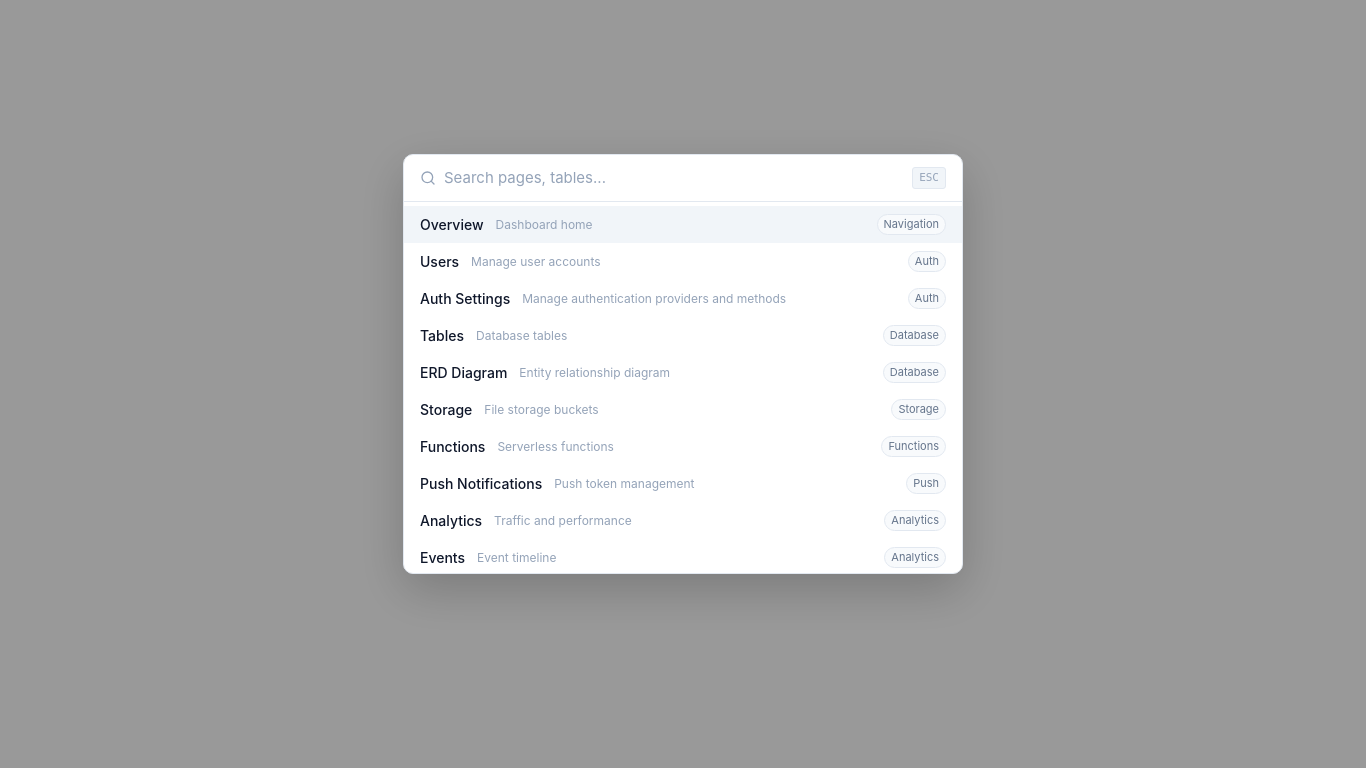
it: CommandPalette › filters navigation and schema items together
In the field with placeholder "Search pages, tables...": (674, 178) [444,167,904,189], type "post"
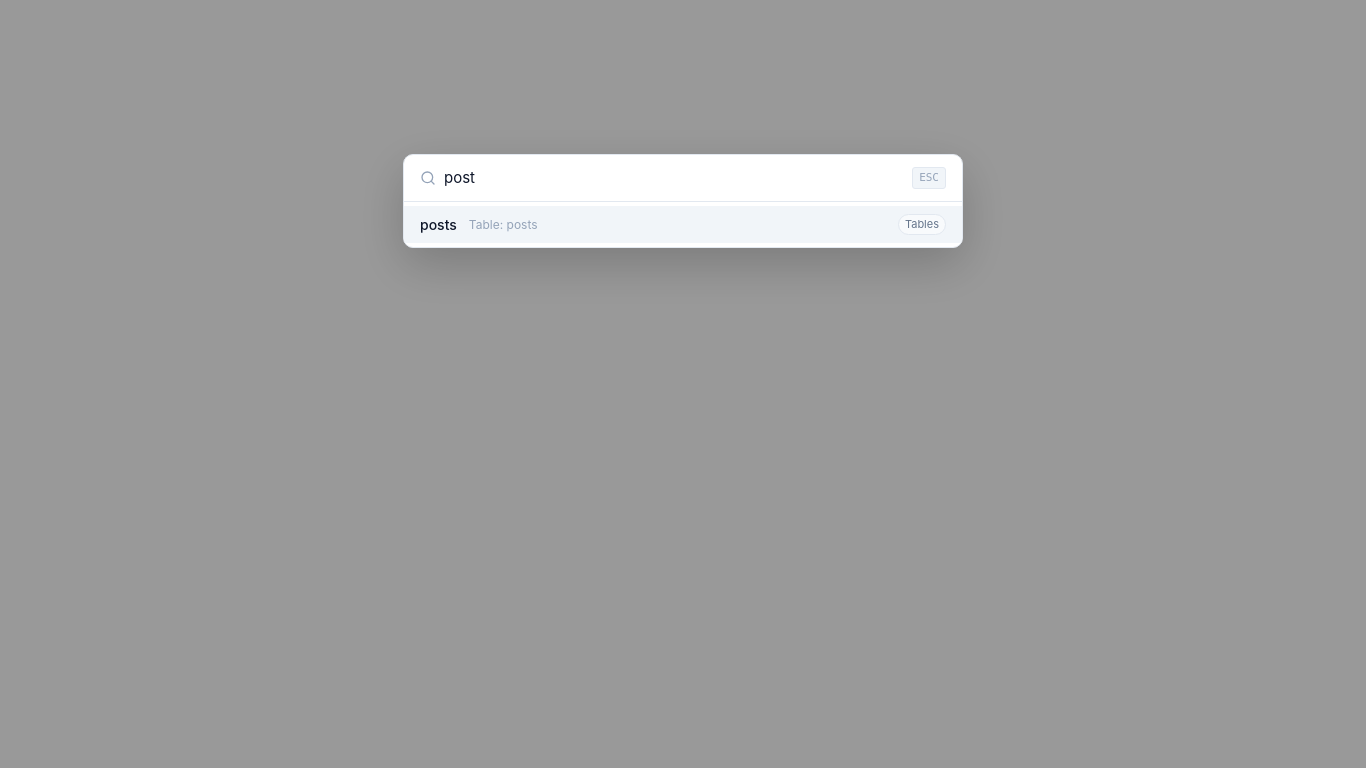
Now the text "posts" is shown, box [420,214,457,235]
Now the text "Table: posts" is shown, box [469,217,538,232]
Now the button "Users" is gone
